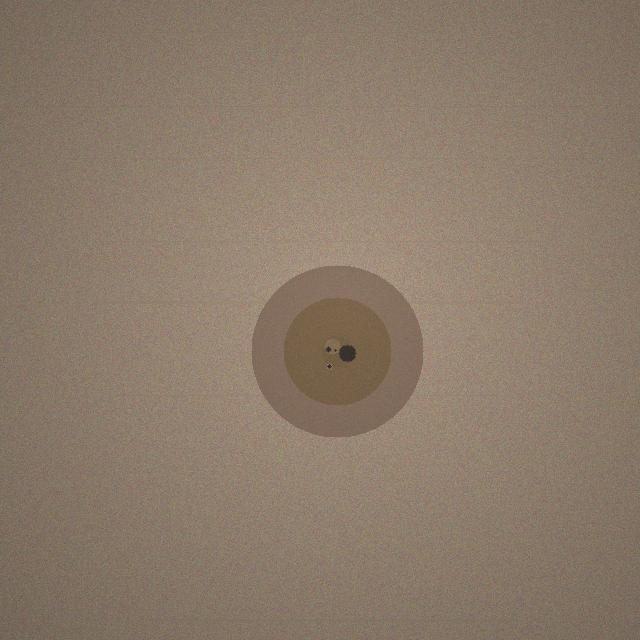shrinkage: (251, 265, 423, 437)
